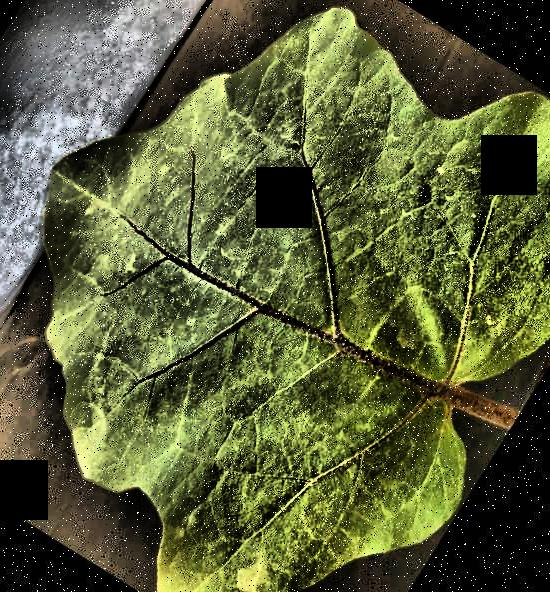HEALTHY: (0, 1, 550, 592)
